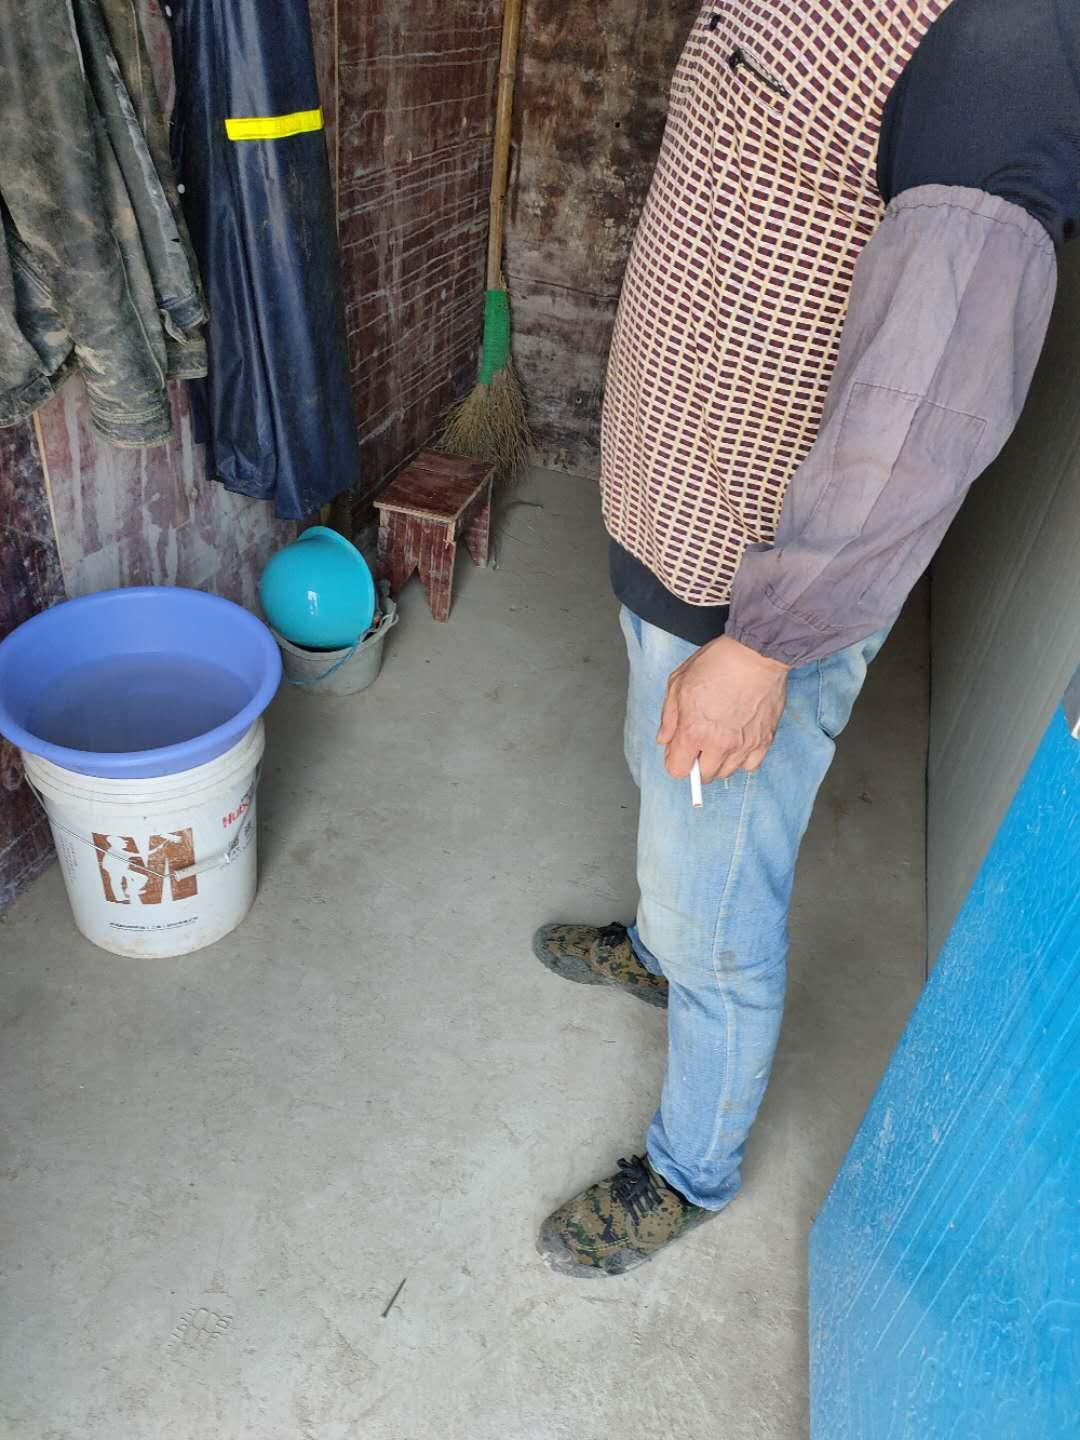Cigarette: (687, 759, 706, 807)
